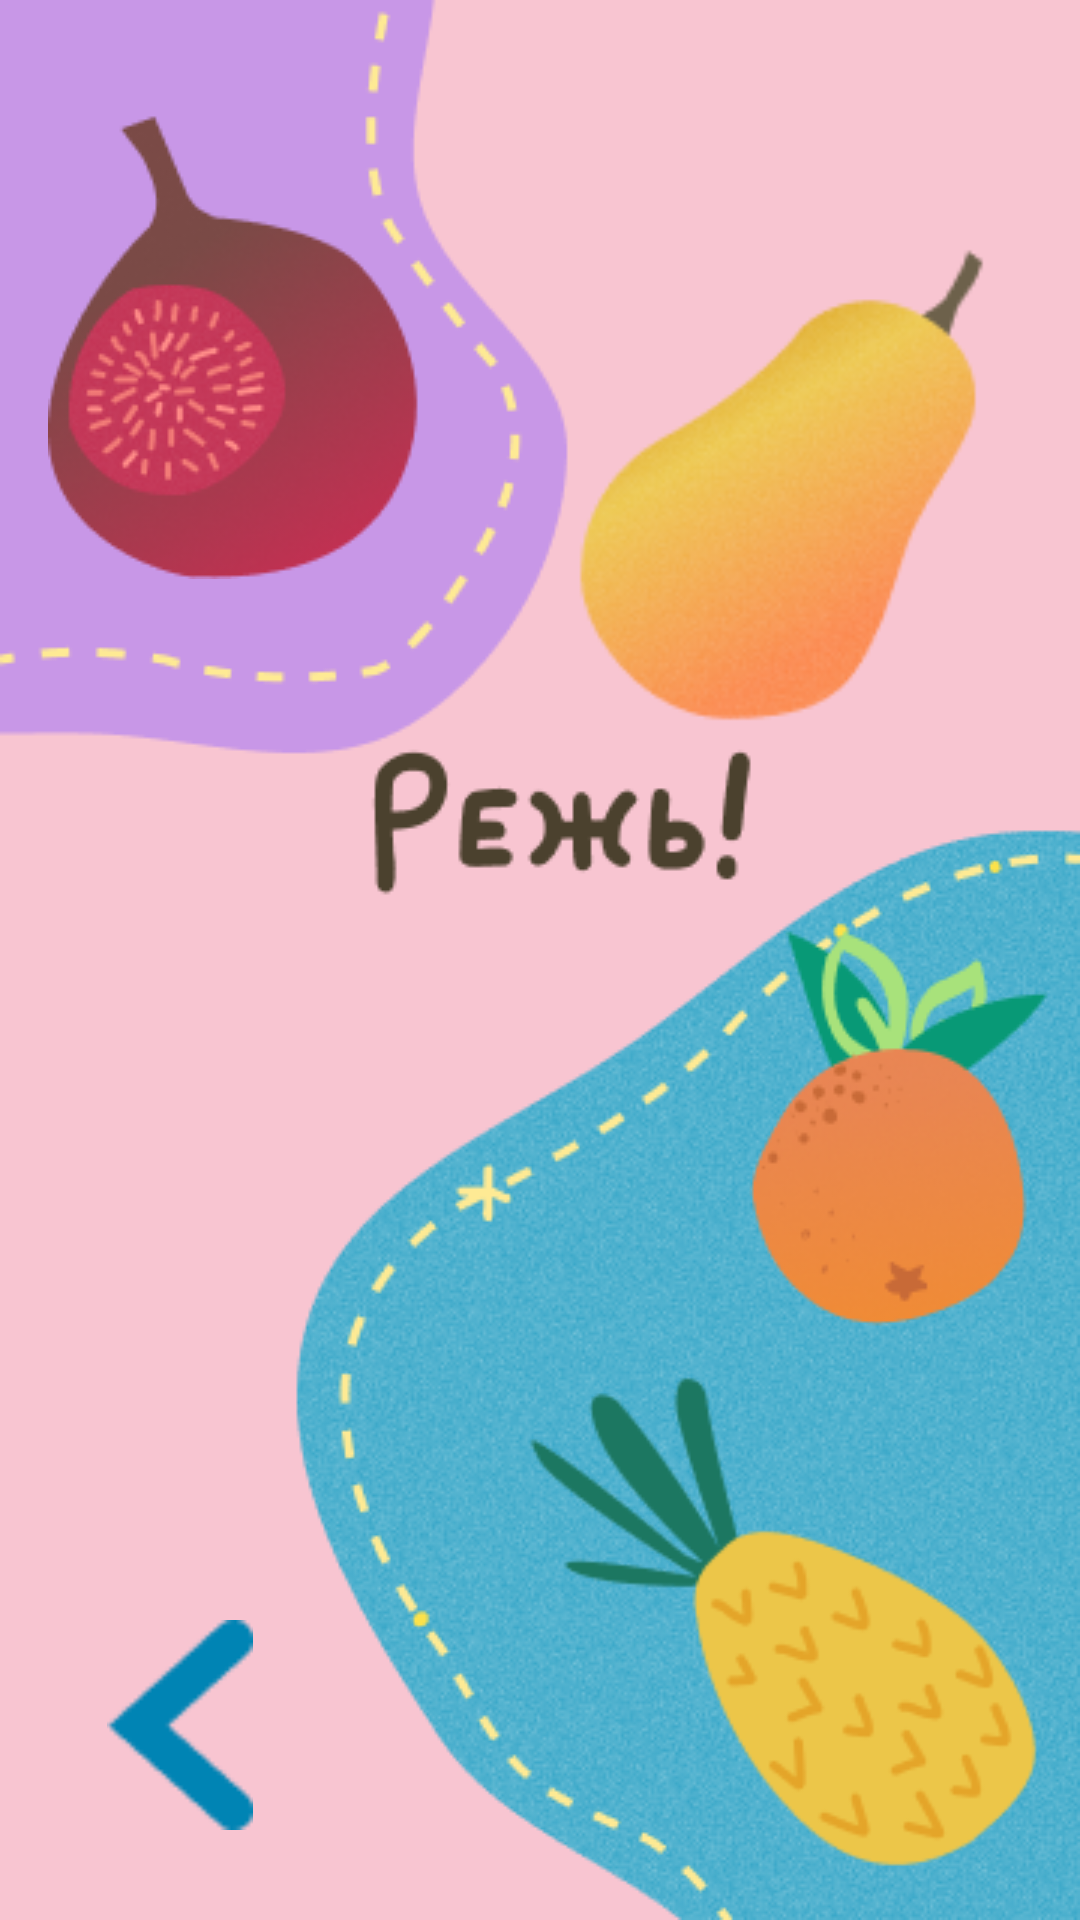

Locate icon controls on the screen. Image size 1080 × 1920, boxes as (x1, y1, x2, y2).
backward: (107, 1620, 253, 1830)
